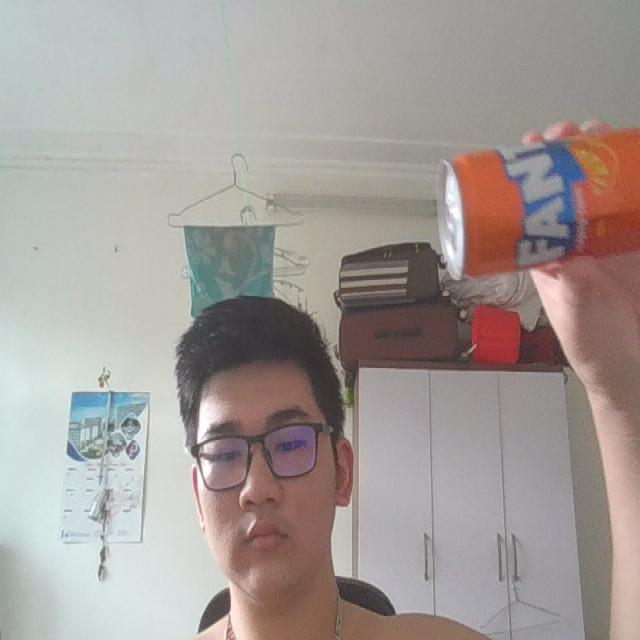Fanta: (438, 124, 640, 278)
